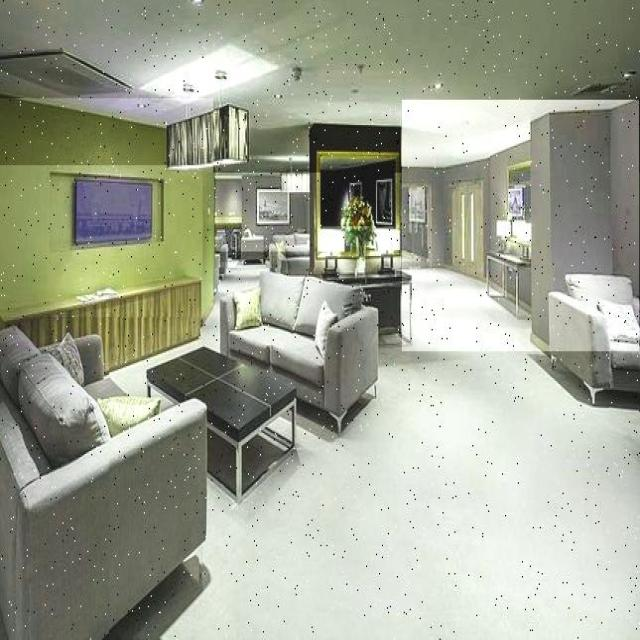Wall: (110, 270, 639, 639), (0, 0, 640, 173), (402, 101, 639, 351), (0, 99, 213, 253), (0, 167, 213, 317), (113, 305, 220, 393), (215, 177, 310, 252), (321, 163, 394, 226), (220, 263, 266, 297)
